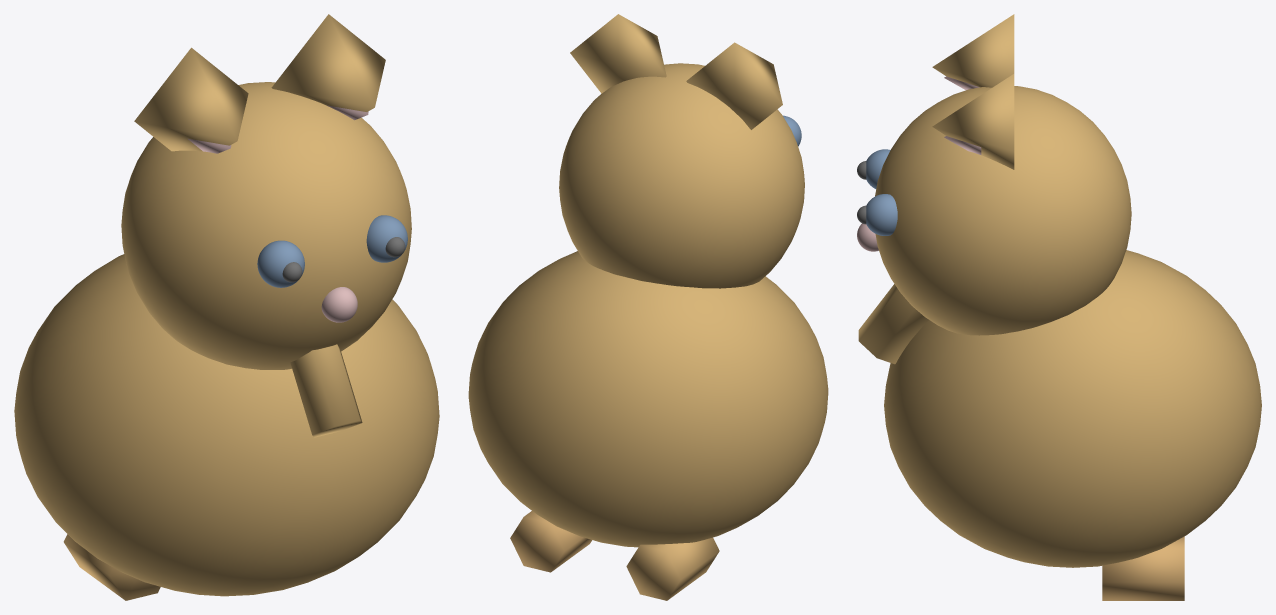
The model's file is lifecycle_cat_baby.glb.
3 views of the same model, side by side, from view 1: azimuth 30°, elevation 25°; view 2: azimuth 150°, elevation 25°; view 3: azimuth 270°, elevation 25° (orthographic). The views are drawn at different scales.
Parts seen in each view (by area): view 1: body, head, ear-1, ear1, tail, leg-1, eye-1, eye1, nose; view 2: body, head, ear1, ear-1, leg-1, leg1; view 3: body, head, ear1, leg1, ear-1, tail, eye1, eye-1.
Part boxes in pixels (box(x1,y1,x2,y2)): body: box(14, 254, 439, 596); head: box(121, 82, 411, 369); ear-1: box(134, 47, 248, 151); ear1: box(271, 14, 385, 111); tail: box(290, 344, 362, 437); leg-1: box(63, 534, 160, 600); eye-1: box(257, 240, 304, 287); eye1: box(366, 215, 407, 262); nose: box(321, 287, 357, 322); body: box(468, 251, 828, 547); head: box(559, 63, 804, 288); ear1: box(570, 14, 666, 93); ear-1: box(686, 42, 782, 129); leg-1: box(626, 537, 719, 600); leg1: box(510, 511, 592, 572); body: box(884, 250, 1261, 567); head: box(875, 86, 1131, 335); ear1: box(932, 74, 1014, 169); leg1: box(1102, 536, 1184, 600); ear-1: box(932, 14, 1014, 87); tail: box(858, 284, 928, 364); eye1: box(866, 194, 897, 235); eye-1: box(866, 149, 890, 188).
Bounding box in the file's own units: 0.322 × 0.4892 × 0.345.
